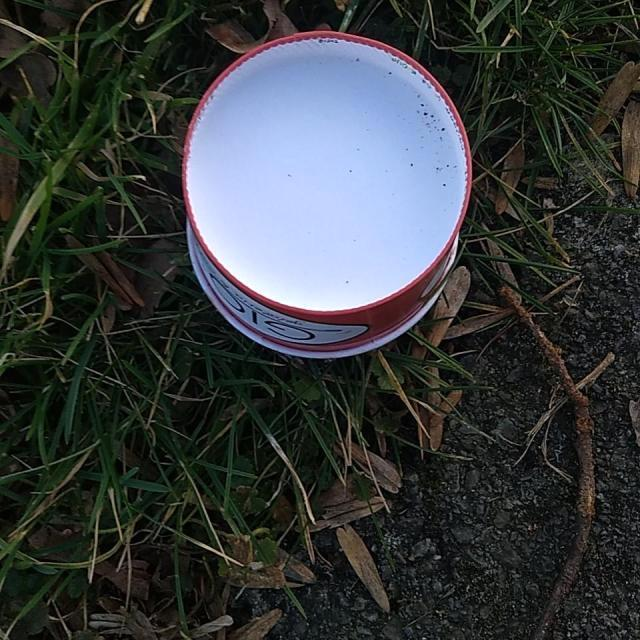Paper: (177, 27, 475, 363)
